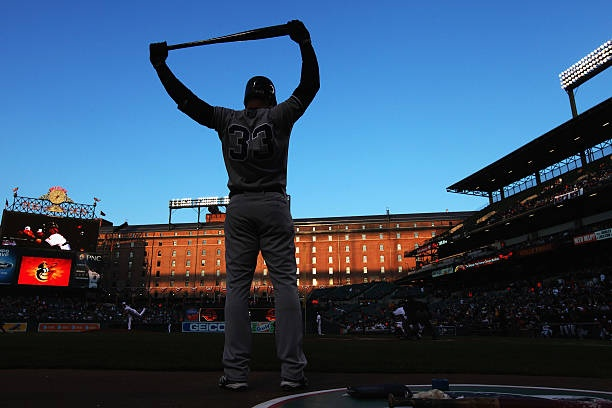bita: (164, 19, 298, 50)
